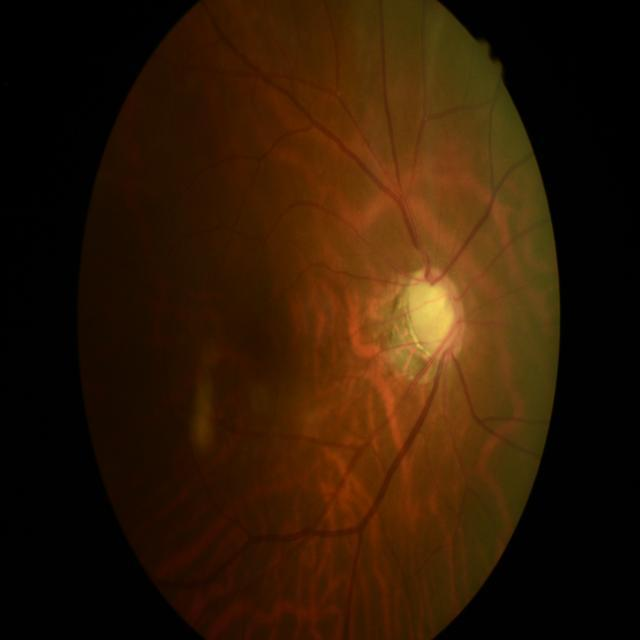cup: (410, 274, 457, 355)
disk: (406, 267, 469, 362)
